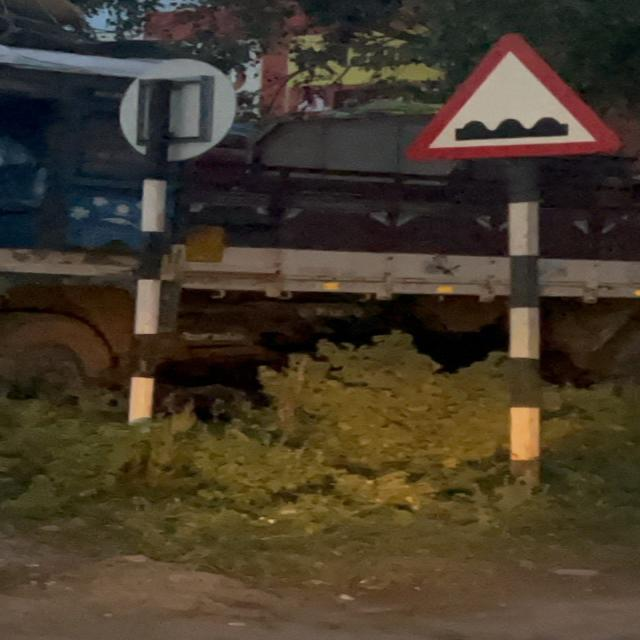hump or rough road: (396, 30, 616, 161)
